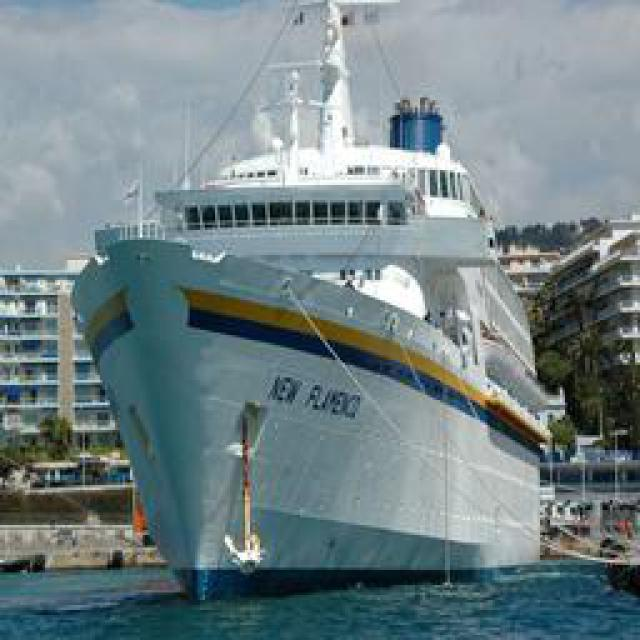Ship: (75, 17, 583, 600)
